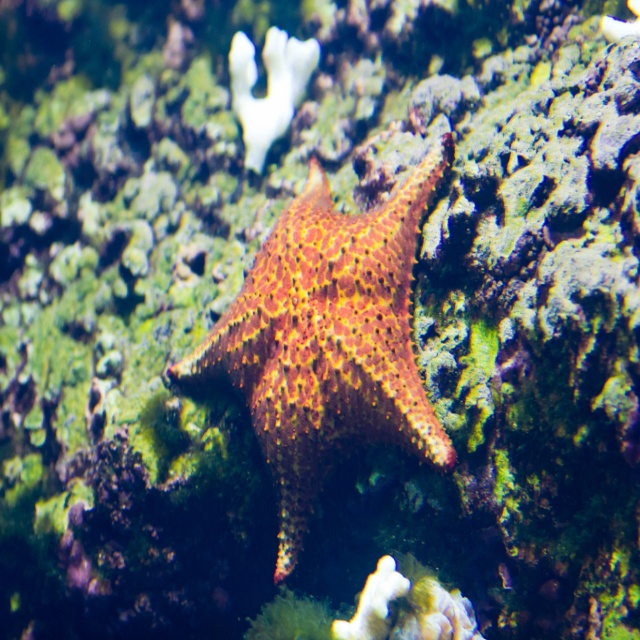Fish: (166, 151, 458, 584)
